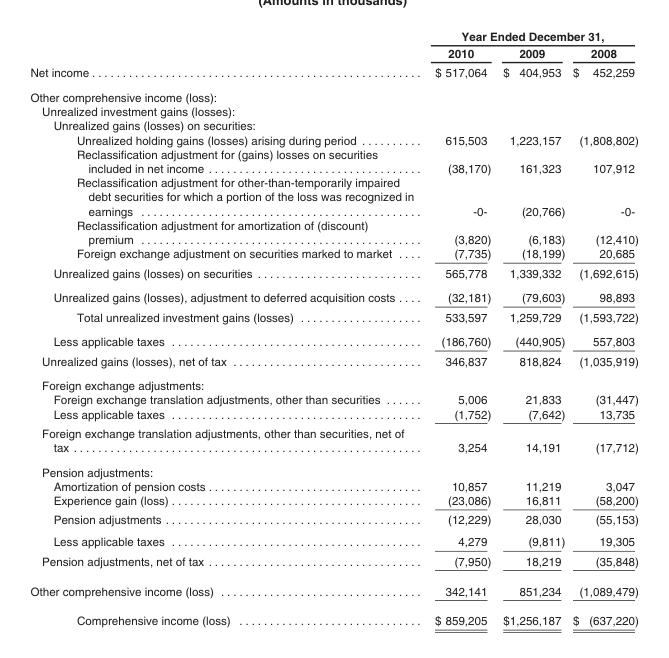table: (29, 29, 637, 626)
table column: (29, 29, 423, 626), (423, 29, 496, 626), (496, 29, 568, 626), (568, 29, 637, 626)
table column header: (29, 29, 637, 62)
table projected row header: (29, 372, 637, 392), (29, 84, 637, 103), (29, 459, 637, 478), (29, 103, 637, 118), (29, 118, 637, 132)
table row: (29, 175, 637, 217), (29, 423, 637, 459), (29, 575, 637, 605), (29, 146, 637, 175), (29, 217, 637, 246), (29, 551, 637, 575), (29, 62, 637, 84), (29, 262, 637, 284), (29, 284, 637, 306), (29, 306, 637, 328), (29, 328, 637, 350), (29, 350, 637, 372), (29, 509, 637, 530), (29, 530, 637, 551), (29, 605, 637, 626), (29, 372, 637, 392), (29, 84, 637, 103), (29, 459, 637, 478), (29, 44, 637, 62), (29, 406, 637, 423), (29, 492, 637, 509), (29, 246, 637, 262), (29, 29, 637, 44), (29, 103, 637, 118), (29, 118, 637, 132), (29, 132, 637, 146), (29, 392, 637, 406), (29, 478, 637, 492)
table spanning cell: (423, 29, 637, 44)
